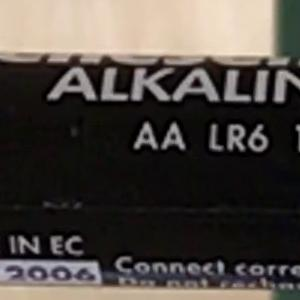ALK: (38, 58, 166, 110)
